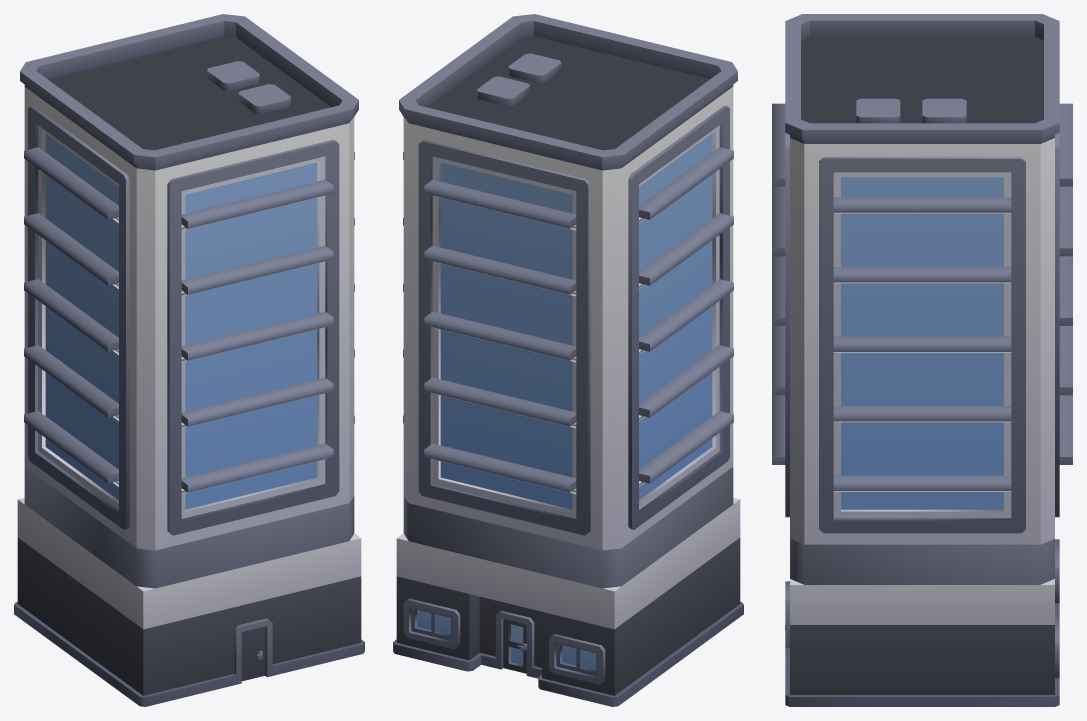
File: c_building-skyscraper-a.glb
3 views of the same model, side by side, from view 1: azimuth 30°, elevation 25°; view 2: azimuth 150°, elevation 25°; view 3: azimuth 270°, elevation 25° (orthographic). The views are drawn at different scales.
Visible parts, largest first — view 1: building-skyscraper-a; view 2: building-skyscraper-a; view 3: building-skyscraper-a.
Boxes of the visible parts, bbox=[...] form: building-skyscraper-a: bbox=[14, 14, 364, 706]; building-skyscraper-a: bbox=[393, 14, 743, 706]; building-skyscraper-a: bbox=[772, 14, 1072, 706].
Size of the model in its own units: 1.36 by 2.88 by 1.36.
Materials: 1 (1 with a texture image).
